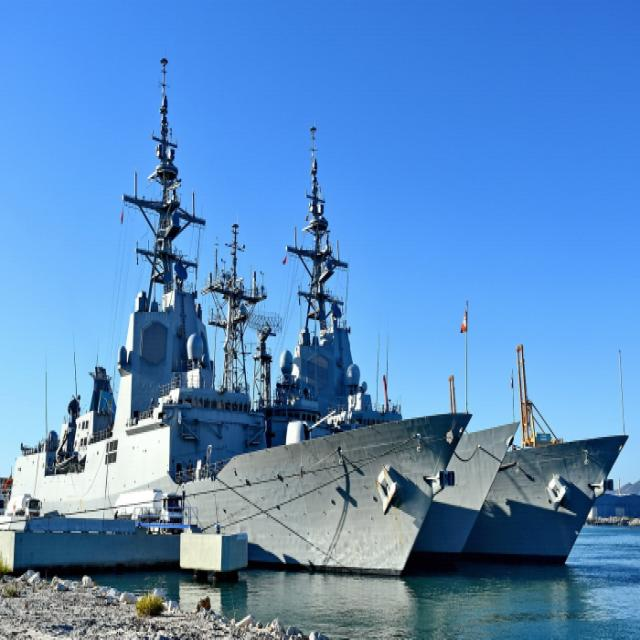Fragata: (1, 43, 476, 591)
